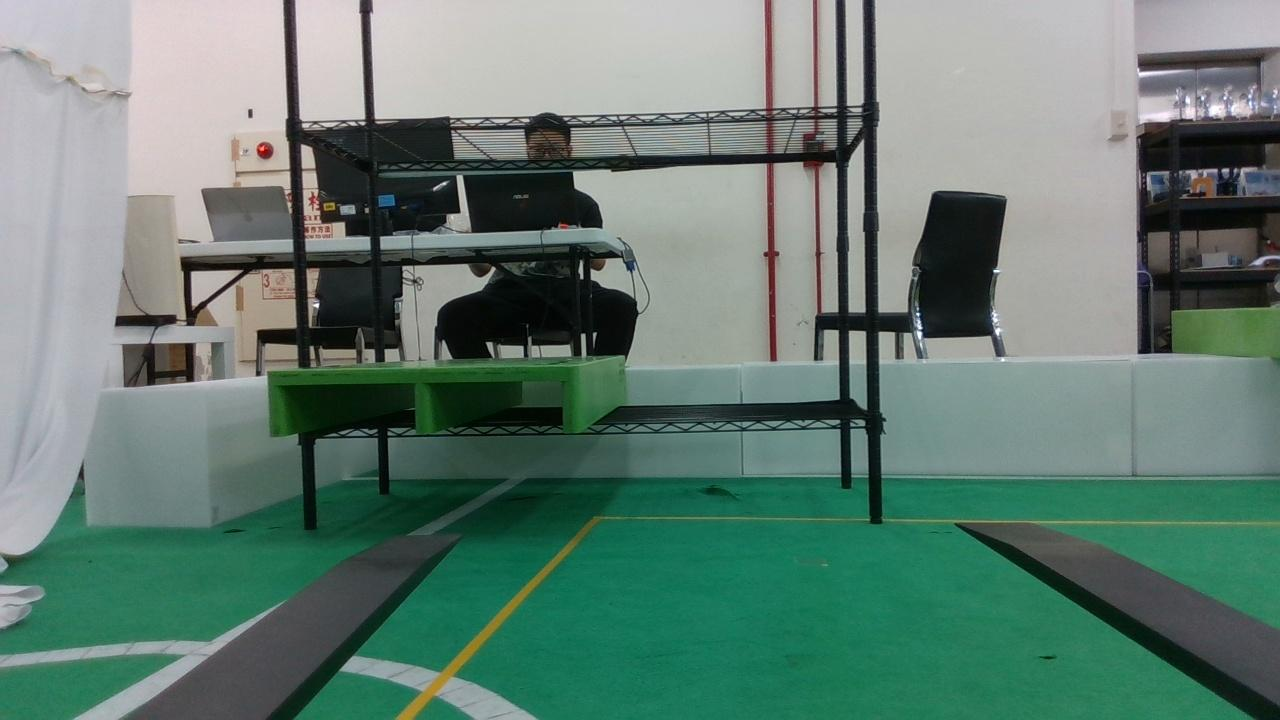Pallet: (267, 363, 581, 437)
